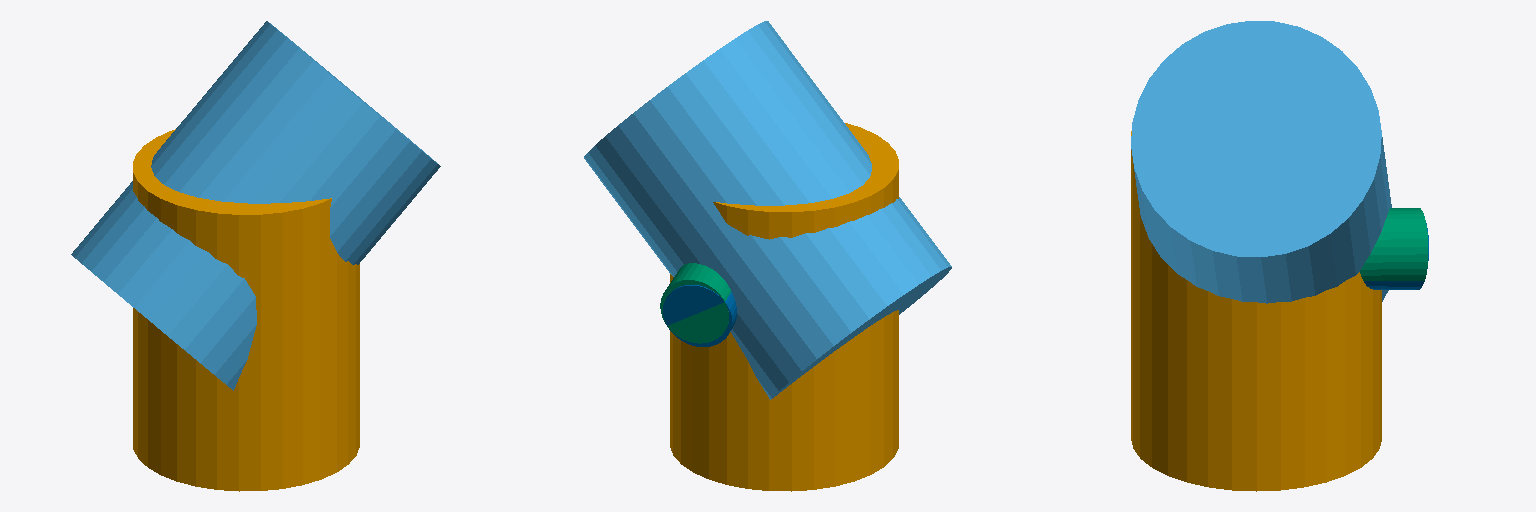
URDF robot description (pepe):
<?xml version="1.0"?><robot name="pepe">
	<link name="0">
		<visual>
			<geometry>
				<cylinder length="2.6780468539074365" radius="0.9999"/>
			</geometry>
		</visual>
		<collision>
			<geometry>
				<cylinder length="2.6780468539074365" radius="0.9999"/>
			</geometry>
		</collision>
		<inertial>
			<mass value="8.411649739873743"/>
			<inertia ixx="0.03" iyy="0.03" izz="0.03" ixy="0" ixz="0" iyx="0"/>
		</inertial>
	</link>
	<link name="11">
		<visual>
			<geometry>
				<cylinder length="2.6780468539074365" radius="0.9999"/>
			</geometry>
		</visual>
		<collision>
			<geometry>
				<cylinder length="2.6780468539074365" radius="0.9999"/>
			</geometry>
		</collision>
		<inertial>
			<mass value="8.411649739873743"/>
			<inertia ixx="0.03" iyy="0.03" izz="0.03" ixy="0" ixz="0" iyx="0"/>
		</inertial>
	</link>
	<link name="22">
		<visual>
			<geometry>
				<cylinder length="1.6351083183453388" radius="0.31446553857254866"/>
			</geometry>
		</visual>
		<collision>
			<geometry>
				<cylinder length="1.6351083183453388" radius="0.31446553857254866"/>
			</geometry>
		</collision>
		<inertial>
			<mass value="0.5079752106607446"/>
			<inertia ixx="0.03" iyy="0.03" izz="0.03" ixy="0" ixz="0" iyx="0"/>
		</inertial>
	</link>
	<link name="23">
		<visual>
			<geometry>
				<cylinder length="1.6351083183453388" radius="0.31446553857254866"/>
			</geometry>
		</visual>
		<collision>
			<geometry>
				<cylinder length="1.6351083183453388" radius="0.31446553857254866"/>
			</geometry>
		</collision>
		<inertial>
			<mass value="0.5079752106607446"/>
			<inertia ixx="0.03" iyy="0.03" izz="0.03" ixy="0" ixz="0" iyx="0"/>
		</inertial>
	</link>
	<link name="24">
		<visual>
			<geometry>
				<cylinder length="1.6351083183453388" radius="0.31446553857254866"/>
			</geometry>
		</visual>
		<collision>
			<geometry>
				<cylinder length="1.6351083183453388" radius="0.31446553857254866"/>
			</geometry>
		</collision>
		<inertial>
			<mass value="0.5079752106607446"/>
			<inertia ixx="0.03" iyy="0.03" izz="0.03" ixy="0" ixz="0" iyx="0"/>
		</inertial>
	</link>
	<joint name="11_to_0" type="revolute">
		<parent link="0"/>
		<child link="11"/>
		<axis xyz="0 1 0"/>
		<limit effort="1" upper="-3.1415" lower="3.1415" velocity="1"/>
		<origin rpy="0.7978502867217495 6.225550231962962 1.5650392050855029" xyz="0.1319503410670193 0.058181755163629334 0.8637086315317808"/>
	</joint>
	<joint name="22_to_0" type="revolute">
		<parent link="0"/>
		<child link="22"/>
		<axis xyz="0 1 0"/>
		<limit effort="1" upper="-3.1415" lower="3.1415" velocity="1"/>
		<origin rpy="4.621213582341783 0.5325209087107884 0.1620270720668011" xyz="0.32127426036859785 0.500835277804333 0.4726795650979667"/>
	</joint>
	<joint name="23_to_0" type="revolute">
		<parent link="0"/>
		<child link="23"/>
		<axis xyz="0 1 0"/>
		<limit effort="1" upper="-3.1415" lower="3.1415" velocity="1"/>
		<origin rpy="6.161618109789044 0.5325209087107884 0.1620270720668011" xyz="0.32127426036859785 0.500835277804333 0.4726795650979667"/>
	</joint>
	<joint name="24_to_0" type="revolute">
		<parent link="0"/>
		<child link="24"/>
		<axis xyz="0 1 0"/>
		<limit effort="1" upper="-3.1415" lower="3.1415" velocity="1"/>
		<origin rpy="7.702022637236306 0.5325209087107884 0.1620270720668011" xyz="0.32127426036859785 0.500835277804333 0.4726795650979667"/>
	</joint>
</robot>

--- Render facts (derived) ---
The picture shows the robot from 3 angles, left to right: view 1: azimuth 30°, elevation 25°; view 2: azimuth 150°, elevation 25°; view 3: azimuth 270°, elevation 25°; orthographic projection.
Robot: pepe — 5 links, 4 joints (4 revolute); root link 0; default pose: all joints at 0.
Visible links, largest first — view 1: 11, 0; view 2: 11, 0, 22, 24; view 3: 11, 0, 22, 24.
Boxes of the visible links, x1,y1,x2,y2 form: 11: [71, 21, 440, 390]; 0: [133, 129, 359, 491]; 11: [584, 21, 951, 399]; 0: [670, 123, 898, 491]; 22: [660, 263, 730, 343]; 24: [663, 285, 736, 346]; 11: [1131, 21, 1391, 303]; 0: [1131, 131, 1381, 491]; 22: [1360, 208, 1427, 280]; 24: [1364, 223, 1428, 289].
Bounding box of the posed robot: 3.31 × 2.37 × 3.85 m (x, y, z).
Geometry: primitives only (box / cylinder / sphere), no mesh files.
